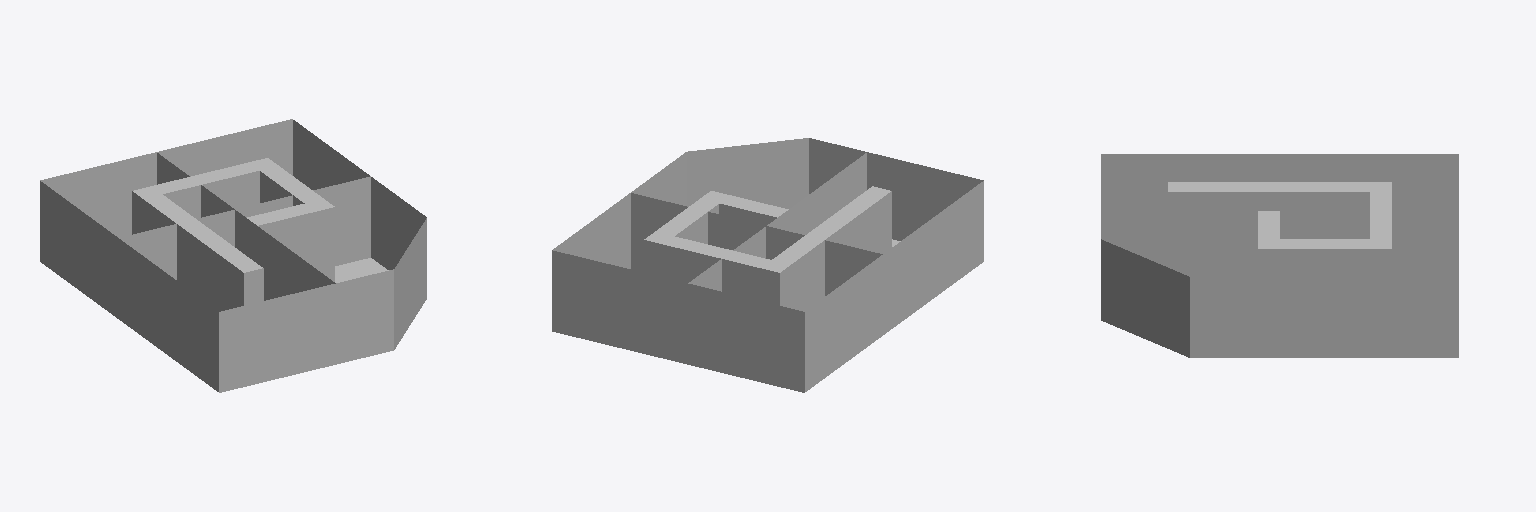
The model's file is gekregen ruimte boom.obj.
3 renders of one model, left to right at view 1: azimuth 30°, elevation 25°; view 2: azimuth 150°, elevation 25°; view 3: azimuth 270°, elevation 25°, orthographic.
Parts seen in each view (by area): view 1: ext_vlak_11_Plane.021, ext_vlak_8_Plane.018, Plane.001_Plane.025, ext_vlak_9_Plane.019, Plane_Plane.010, r_vlak_2_Plane.001, ext_vlak_6_Plane.016, ext_vlak_10_Plane.020, r_vlak_9_Plane.008, ext_vlak_7_Plane.017, r_vlak_5_Plane.004, ext_vlak_1_Plane.011 (+7 smaller); view 2: ext_vlak_11_Plane.021, ext_vlak_6_Plane.016, ext_vlak_10_Plane.020, ext_vlak_7_Plane.017, ext_vlak_8_Plane.018, Plane.001_Plane.025, ext_vlak_5_Plane.015, ext_vlak_9_Plane.019, r_vlak_2_Plane.001, Plane_Plane.010, r_vlak_4_Plane.003, ext_vlak_1_Plane.011 (+5 smaller); view 3: ext_vlak_9_Plane.019, Plane_Plane.010, ext_vlak_11_Plane.021, ext_vlak_7_Plane.017, r_vlak_3_Plane.002, r_vlak_7_Plane.006, ext_vlak_1_Plane.011, ext_vlak_2_Plane.012, ext_vlak_3_Plane.013, ext_vlak_4_Plane.014.
Boxes of the visible parts, x1,y1,x2,y2 form: ext_vlak_11_Plane.021: [40, 181, 218, 391]; ext_vlak_8_Plane.018: [219, 269, 393, 392]; Plane.001_Plane.025: [119, 176, 370, 279]; ext_vlak_9_Plane.019: [293, 120, 426, 269]; Plane_Plane.010: [157, 153, 335, 300]; r_vlak_2_Plane.001: [132, 191, 243, 311]; ext_vlak_6_Plane.016: [40, 157, 136, 237]; ext_vlak_10_Plane.020: [195, 119, 292, 175]; r_vlak_9_Plane.008: [258, 207, 334, 281]; ext_vlak_7_Plane.017: [394, 218, 426, 349]; r_vlak_5_Plane.004: [163, 171, 259, 218]; ext_vlak_1_Plane.011: [144, 194, 262, 272]; ext_vlak_11_Plane.021: [805, 181, 983, 391]; ext_vlak_6_Plane.016: [707, 288, 804, 392]; ext_vlak_10_Plane.020: [552, 250, 648, 354]; ext_vlak_7_Plane.017: [687, 138, 808, 208]; ext_vlak_8_Plane.018: [809, 138, 983, 240]; Plane.001_Plane.025: [631, 193, 882, 295]; ext_vlak_5_Plane.015: [649, 274, 706, 368]; ext_vlak_9_Plane.019: [553, 152, 686, 268]; r_vlak_2_Plane.001: [780, 191, 891, 311]; Plane_Plane.010: [688, 153, 866, 291]; r_vlak_4_Plane.003: [644, 240, 779, 305]; ext_vlak_1_Plane.011: [772, 186, 890, 264]; ext_vlak_9_Plane.019: [1190, 277, 1458, 357]; Plane_Plane.010: [1101, 211, 1458, 276]; ext_vlak_11_Plane.021: [1101, 154, 1458, 210]; ext_vlak_7_Plane.017: [1101, 239, 1189, 357]; r_vlak_3_Plane.002: [1168, 192, 1369, 210]; r_vlak_7_Plane.006: [1258, 249, 1391, 276]; ext_vlak_1_Plane.011: [1168, 182, 1369, 191]; ext_vlak_2_Plane.012: [1370, 182, 1391, 248]; ext_vlak_3_Plane.013: [1258, 239, 1369, 248]; ext_vlak_4_Plane.014: [1258, 211, 1279, 238].
Size of the model in its own units: 13 by 4 by 16.